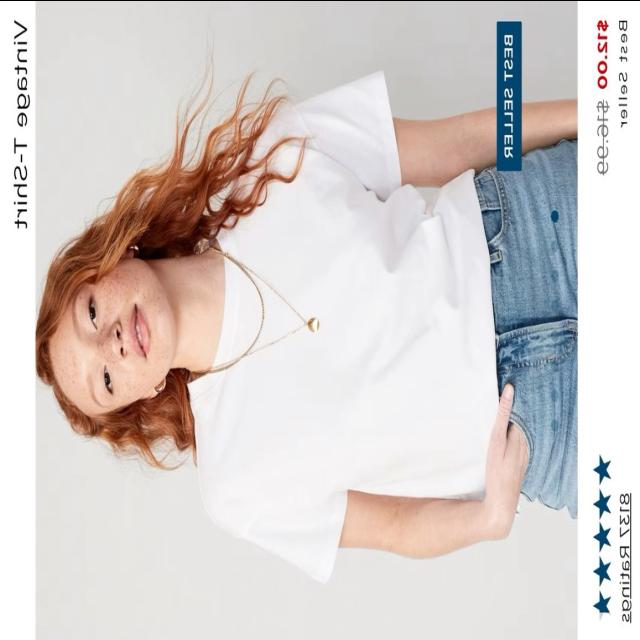shoulder: (193, 95, 299, 550)
